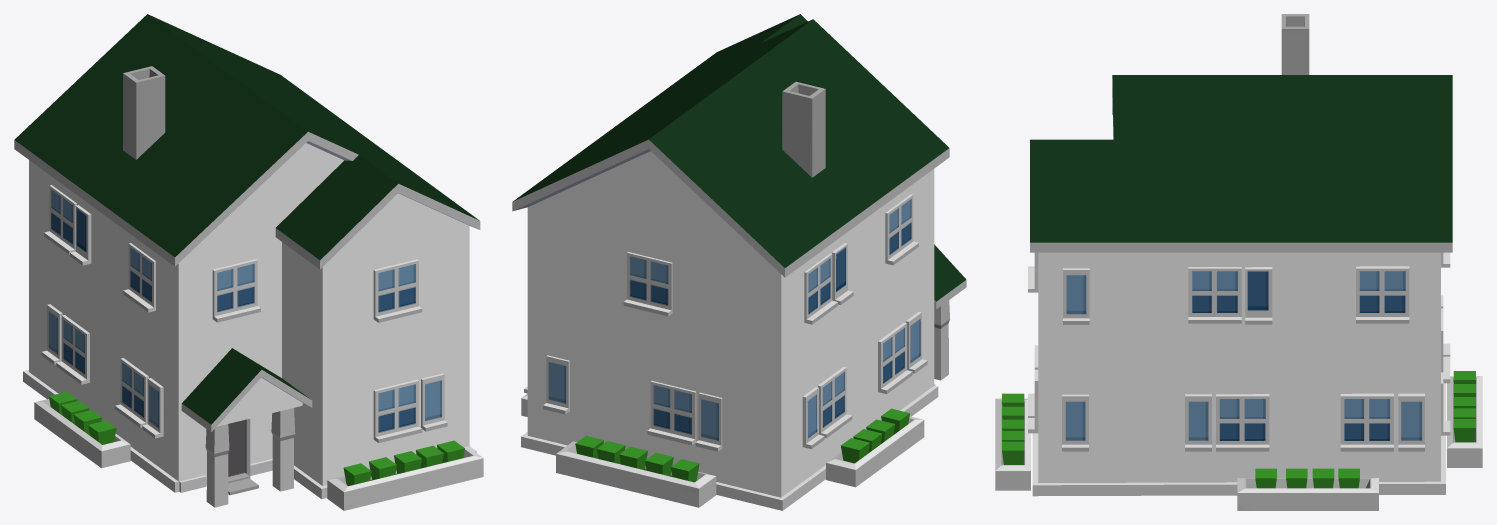
File: Animal_protection_station.fbx
3 views of the same model, side by side, from view 1: azimuth 30°, elevation 25°; view 2: azimuth 150°, elevation 25°; view 3: azimuth 270°, elevation 25° (orthographic). The views are drawn at different scales.
Visible parts, largest first — view 1: _Animal_protection_station; view 2: _Animal_protection_station; view 3: _Animal_protection_station.
Part boxes in pixels (x1=…): _Animal_protection_station: x1=14, y1=14, x2=483, y2=510; _Animal_protection_station: x1=512, y1=14, x2=966, y2=510; _Animal_protection_station: x1=995, y1=14, x2=1482, y2=510.
Bounding box in the file's own units: 14.47 × 15.13 × 18.19.
Materials: 1 (1 with a texture image).
